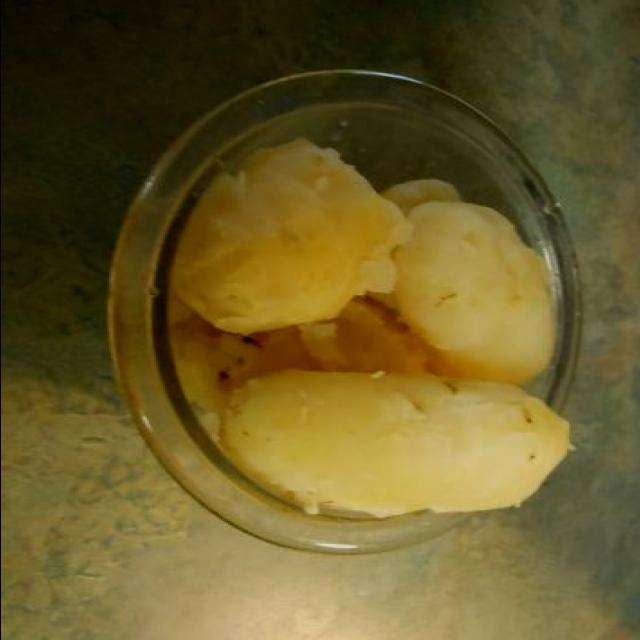kentang rebus: (256, 179, 555, 387), (215, 368, 568, 521), (168, 137, 411, 337)
